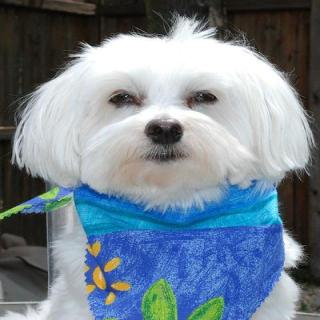dog: (3, 23, 320, 214)
nose: (141, 115, 190, 148)
